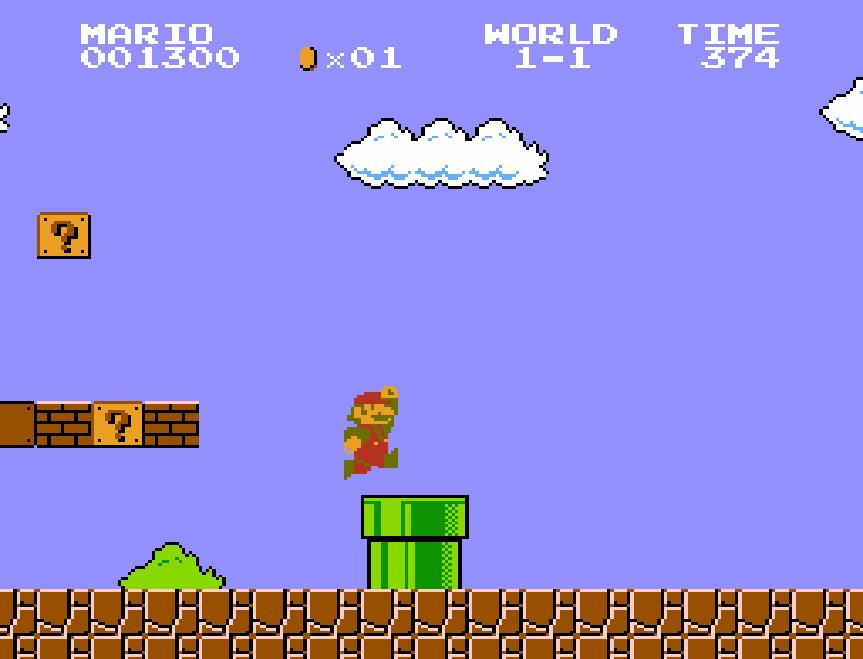big_mario: (342, 384, 400, 482)
